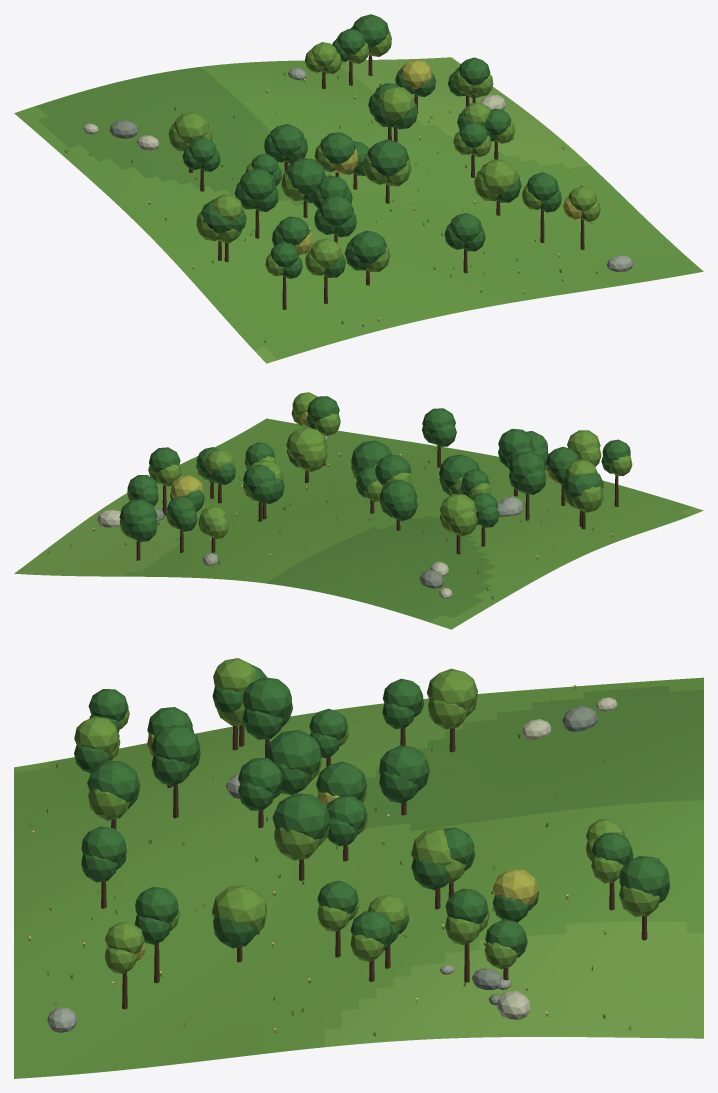
Rendered from Chunk_X-2_Y0_Z-3.fbx.
3 views of the same model, one above another, from view 1: azimuth 30°, elevation 25°; view 2: azimuth 150°, elevation 25°; view 3: azimuth 270°, elevation 25° (orthographic). The views are drawn at different scales.
Parts seen in each view (by area): view 1: Terrain.007, Canopies.007, Trunks.007, Rocks.007, GroundCover.007; view 2: Terrain.007, Canopies.007, Rocks.007, Trunks.007, GroundCover.007; view 3: Terrain.007, Canopies.007, Rocks.007, Trunks.007, GroundCover.007.
Boxes of the visible parts, <box> form: Terrain.007: <box>14,57,703,363</box>; Canopies.007: <box>168,14,600,278</box>; Trunks.007: <box>189,55,584,309</box>; Rocks.007: <box>82,68,633,272</box>; GroundCover.007: <box>65,70,597,342</box>; Terrain.007: <box>14,418,703,629</box>; Canopies.007: <box>119,392,632,541</box>; Rocks.007: <box>97,435,523,598</box>; Trunks.007: <box>136,435,618,560</box>; GroundCover.007: <box>47,440,675,600</box>; Terrain.007: <box>14,677,703,1078</box>; Canopies.007: <box>74,658,670,973</box>; Rocks.007: <box>47,697,650,1032</box>; Trunks.007: <box>101,725,647,1009</box>; GroundCover.007: <box>28,685,660,1036</box>.
Bounding box in the file's own units: 100 × 27.65 × 100.
